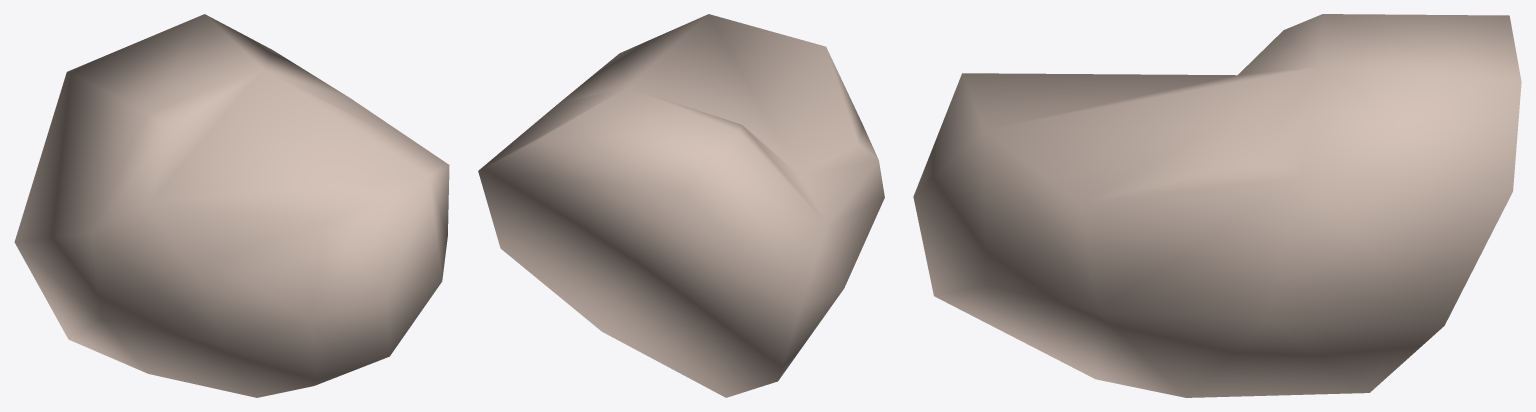
Rendered from RRing3rdPhalange.dae.
3 renders of one model, left to right at view 1: azimuth 30°, elevation 25°; view 2: azimuth 150°, elevation 25°; view 3: azimuth 270°, elevation 25°, orthographic. The views are drawn at different scales.
Visible parts, largest first — view 1: ShapeIndexedFaceSet; view 2: ShapeIndexedFaceSet; view 3: ShapeIndexedFaceSet.
Boxes of the visible parts, x1,y1,x2,y2 form: ShapeIndexedFaceSet: (14,14,449,397); ShapeIndexedFaceSet: (478,14,884,397); ShapeIndexedFaceSet: (913,14,1521,397).
Size of the model in its own units: 0.0152 by 0.0186 by 0.0125.
